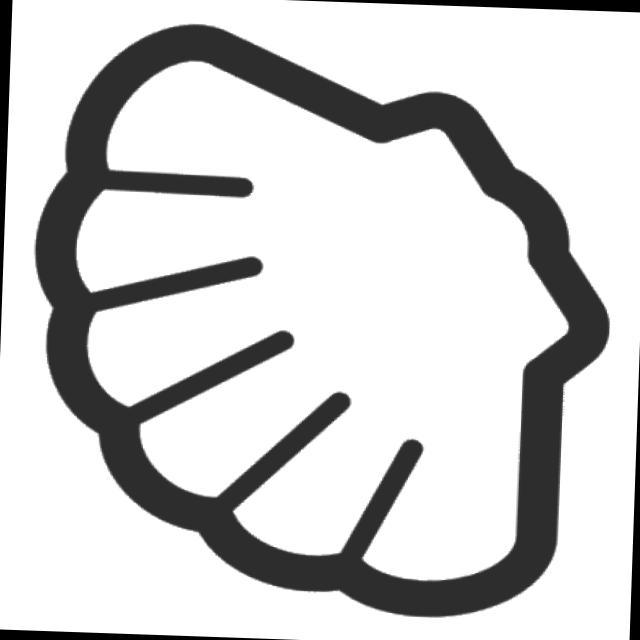shell: (11, 5, 632, 634)
